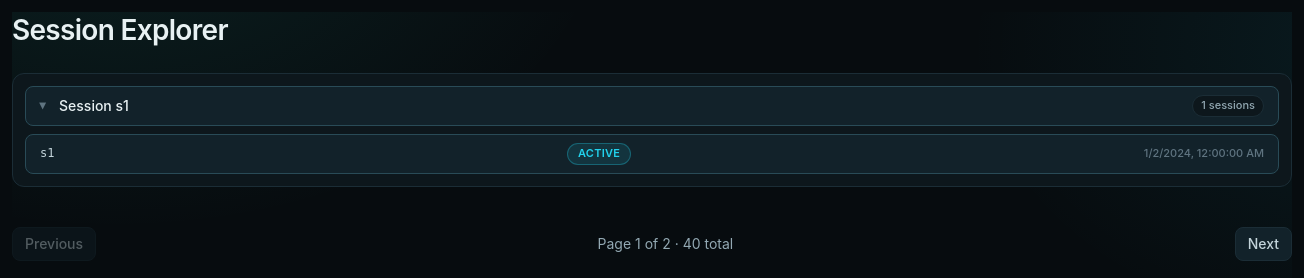
Scenario: SessionExplorerPage › paginates sessions using the server-reported total
Expected: the text with test id "session-pagination-status" shows "Page 1 of 2", x1=598 y1=235 x2=733 y2=252
Click the button "Next" at (1263, 244), box x1=1235 y1=227 x2=1292 y2=261
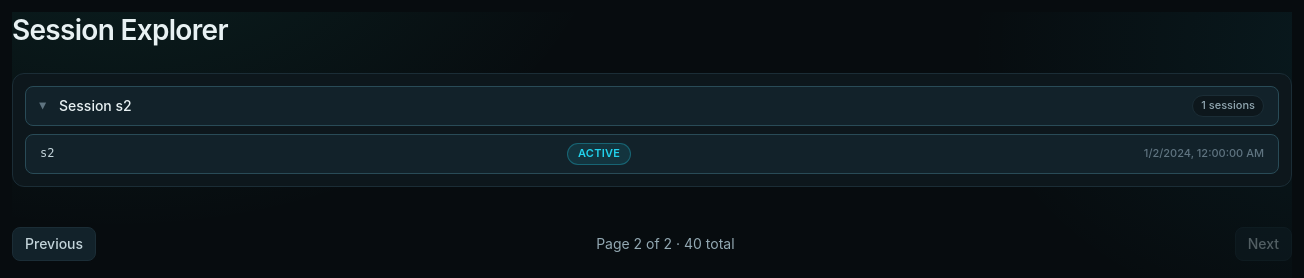
Result: the text with test id "session-pagination-status" shows "Page 2 of 2" at x1=596 y1=235 x2=735 y2=252
Result: the button "Next" is disabled at x1=1235 y1=227 x2=1292 y2=261
